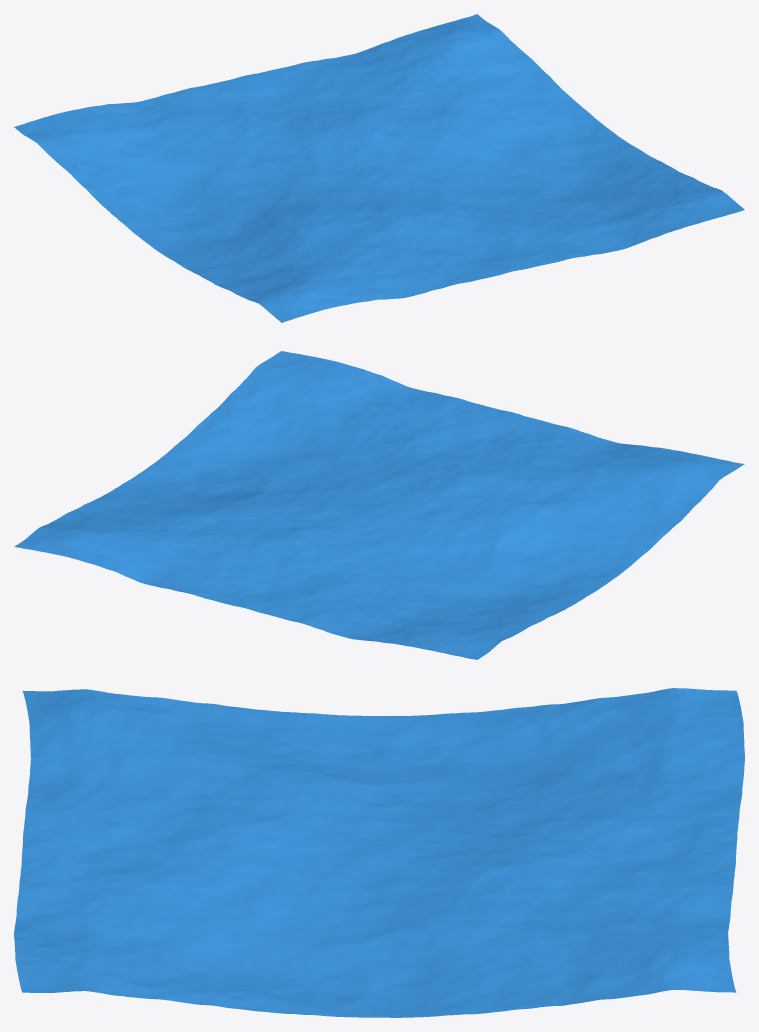
The model's file is probavam_morje.fbx.
3 views of the same model, one above another, from view 1: azimuth 30°, elevation 25°; view 2: azimuth 150°, elevation 25°; view 3: azimuth 270°, elevation 25° (orthographic). The views are drawn at different scales.
Visible parts, largest first — view 1: Plane; view 2: Plane; view 3: Plane.
Boxes of the visible parts, <box> form: Plane: <box>14,14,744,322</box>; Plane: <box>14,351,744,659</box>; Plane: <box>14,688,744,1017</box>.
Bounding box in the file's own units: 31050 × 1722 × 31637.
